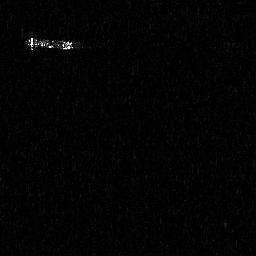ship: (22, 32, 89, 55)
